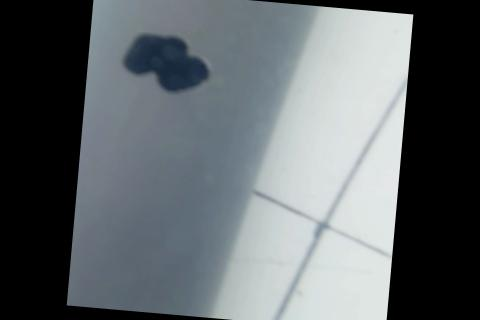kebocoran: (117, 29, 216, 98)
